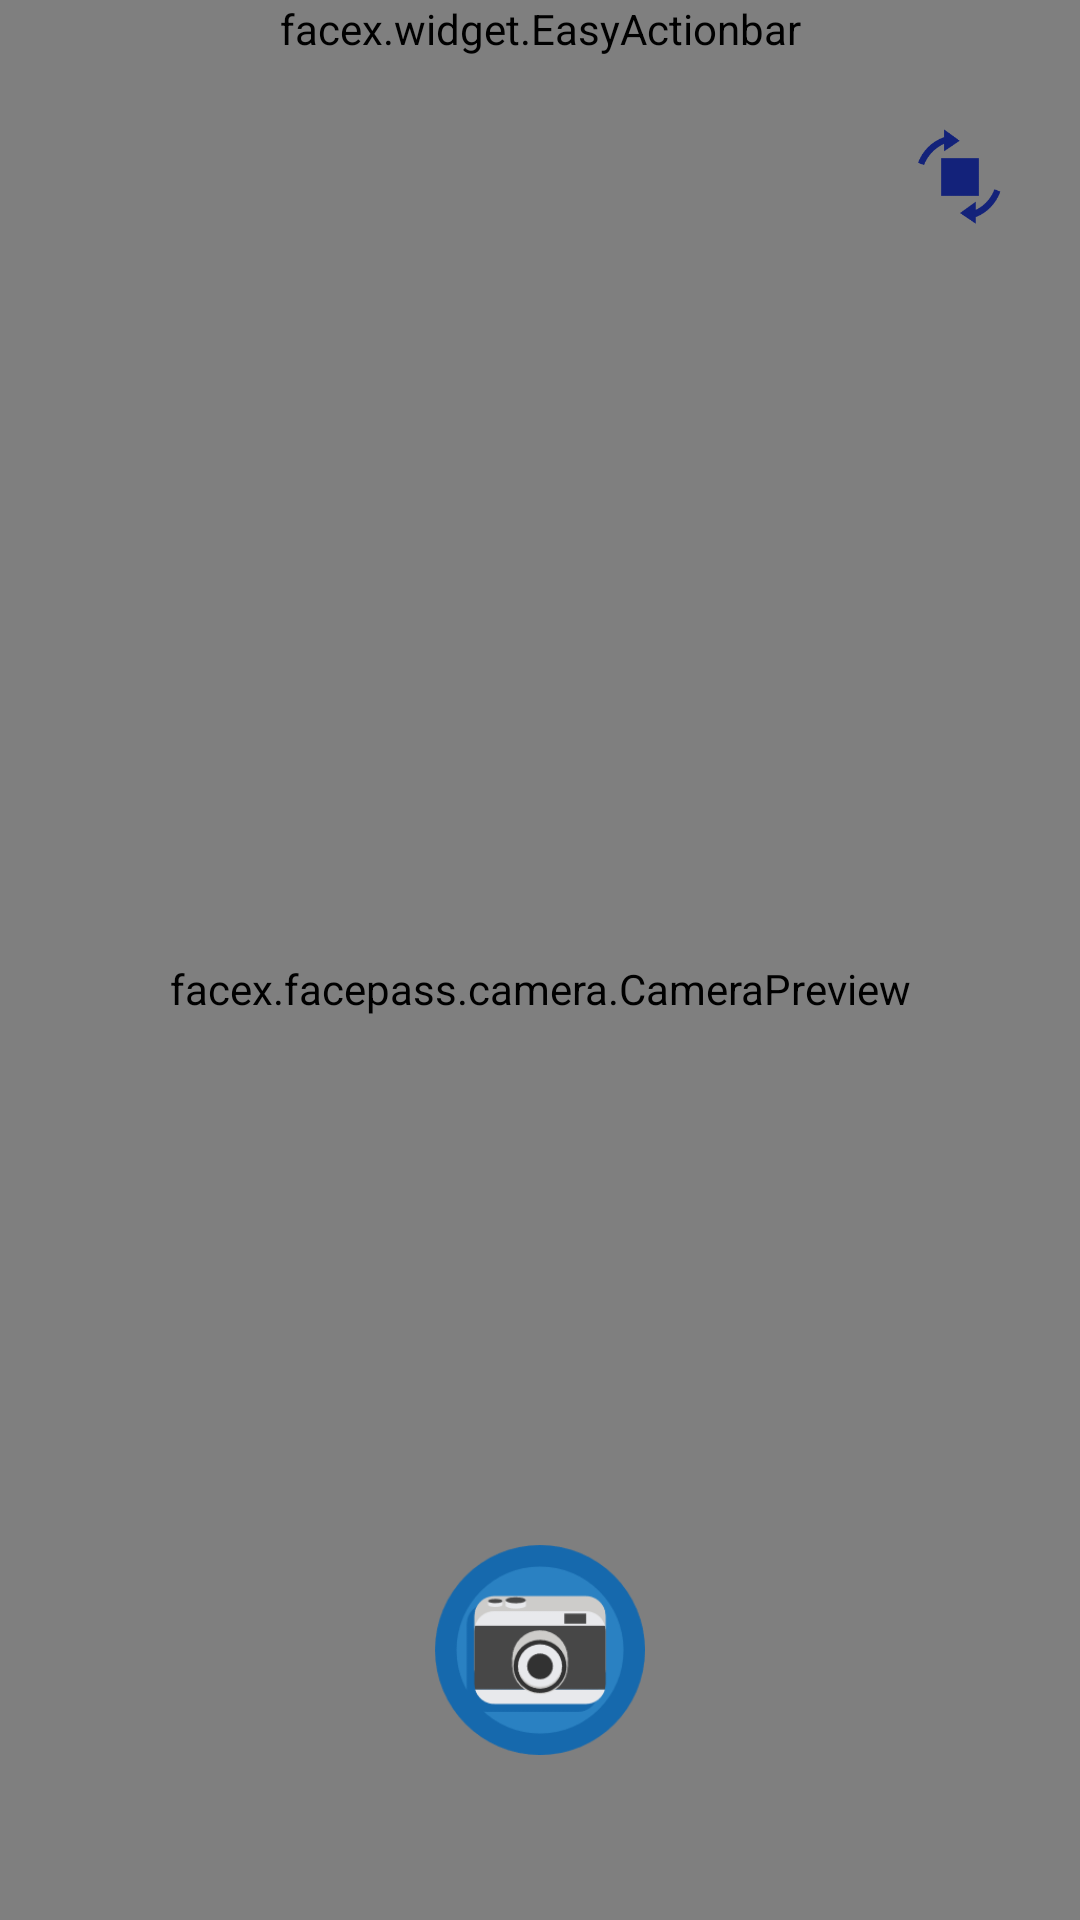

Locate icon controls on the screen. Image size 1080 x 1920, boxes as BBox(x1, y1, x2, y2).
frontback: BBox(918, 130, 1000, 224)
